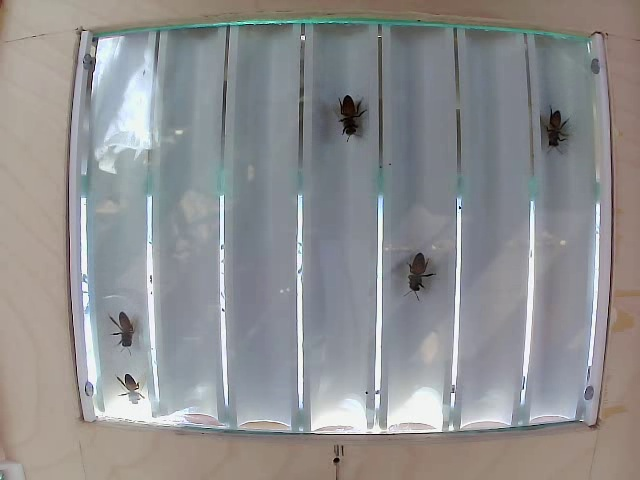bee: (335, 91, 383, 155), (395, 249, 441, 310), (535, 98, 572, 159), (114, 370, 148, 413), (100, 311, 142, 341)
